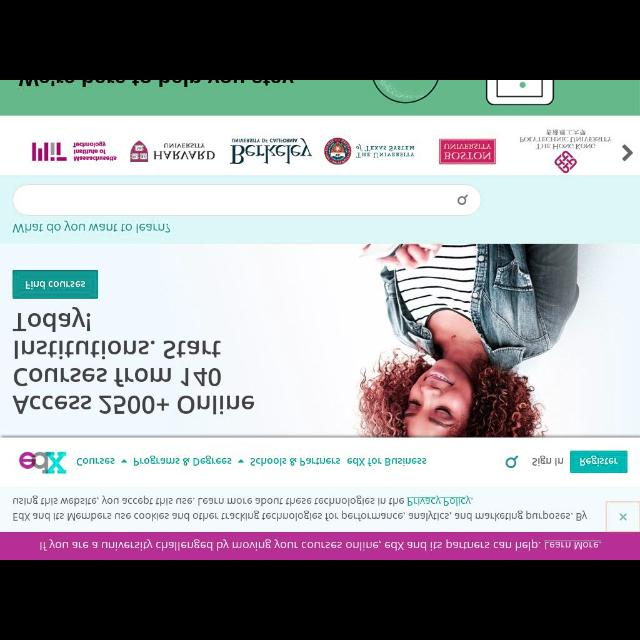backgroundimage: (1, 243, 639, 437)
button: (607, 503, 639, 531)
icon: (622, 143, 632, 161), (506, 456, 518, 468), (457, 195, 467, 205), (618, 513, 628, 521), (238, 458, 245, 464), (121, 458, 127, 464)
image: (516, 127, 616, 173), (322, 136, 416, 164), (230, 138, 312, 164), (31, 140, 118, 162), (129, 140, 215, 162), (439, 138, 496, 164), (20, 450, 66, 472)
input: (13, 184, 479, 213)
link: (407, 496, 473, 506)
spinner: (133, 451, 245, 469), (74, 452, 128, 468)
text: (15, 306, 254, 414), (12, 492, 588, 522), (40, 538, 602, 552), (13, 220, 170, 234), (134, 455, 232, 467), (250, 456, 340, 466), (347, 456, 427, 466), (24, 277, 86, 289), (578, 455, 618, 467), (533, 453, 565, 467), (76, 456, 115, 466)
textbutton: (12, 270, 98, 298), (570, 452, 628, 472)
toolbar: (1, 438, 639, 487)
